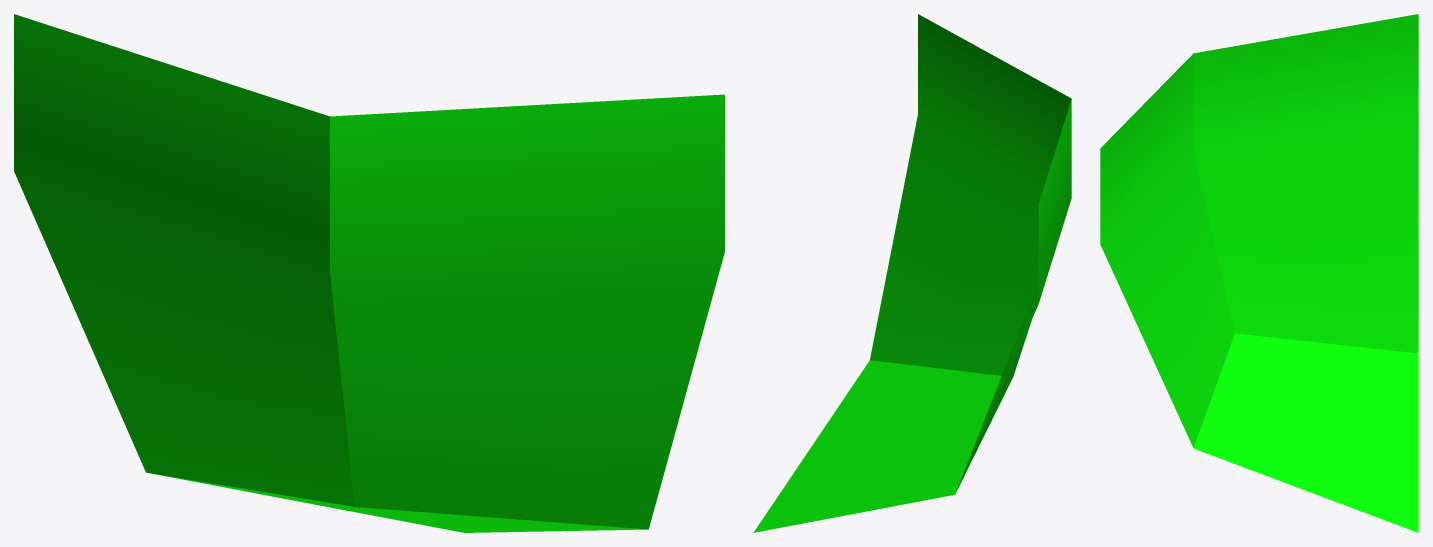
3 renders of one model, left to right at view 1: azimuth 30°, elevation 25°; view 2: azimuth 150°, elevation 25°; view 3: azimuth 270°, elevation 25°, orthographic. The views are drawn at different scales.
Parts seen in each view (by area): view 1: None_G_G_E_G_G_G_G_G_None; view 2: None_G_G_E_G_G_G_G_G_None; view 3: None_G_G_E_G_G_G_G_G_None.
Part boxes in pixels (x1,y1,x2,y2): None_G_G_E_G_G_G_G_G_None: (14,14,724,532); None_G_G_E_G_G_G_G_G_None: (753,14,1071,532); None_G_G_E_G_G_G_G_G_None: (1100,14,1418,532).
Bounding box in the file's own units: 28.13 × 37.5 × 28.13.
